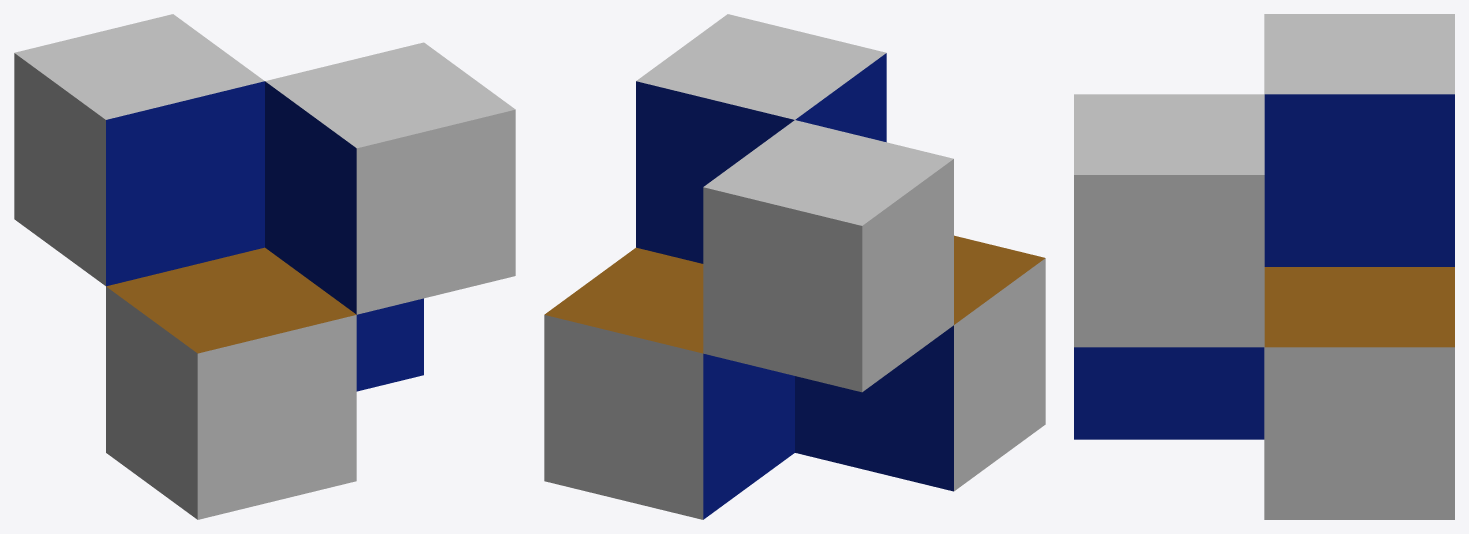
File: case_90.fbx
3 views of the same model, side by side, from view 1: azimuth 30°, elevation 25°; view 2: azimuth 150°, elevation 25°; view 3: azimuth 270°, elevation 25° (orthographic). The views are drawn at different scales.
Visible parts, largest first — view 1: case_90; view 2: case_90; view 3: case_90.
Part boxes in pixels (<box>): case_90: <box>14,14,515,519</box>; case_90: <box>544,14,1045,519</box>; case_90: <box>1074,14,1454,519</box>.
Size of the model in its own units: 1 by 1 by 1.
